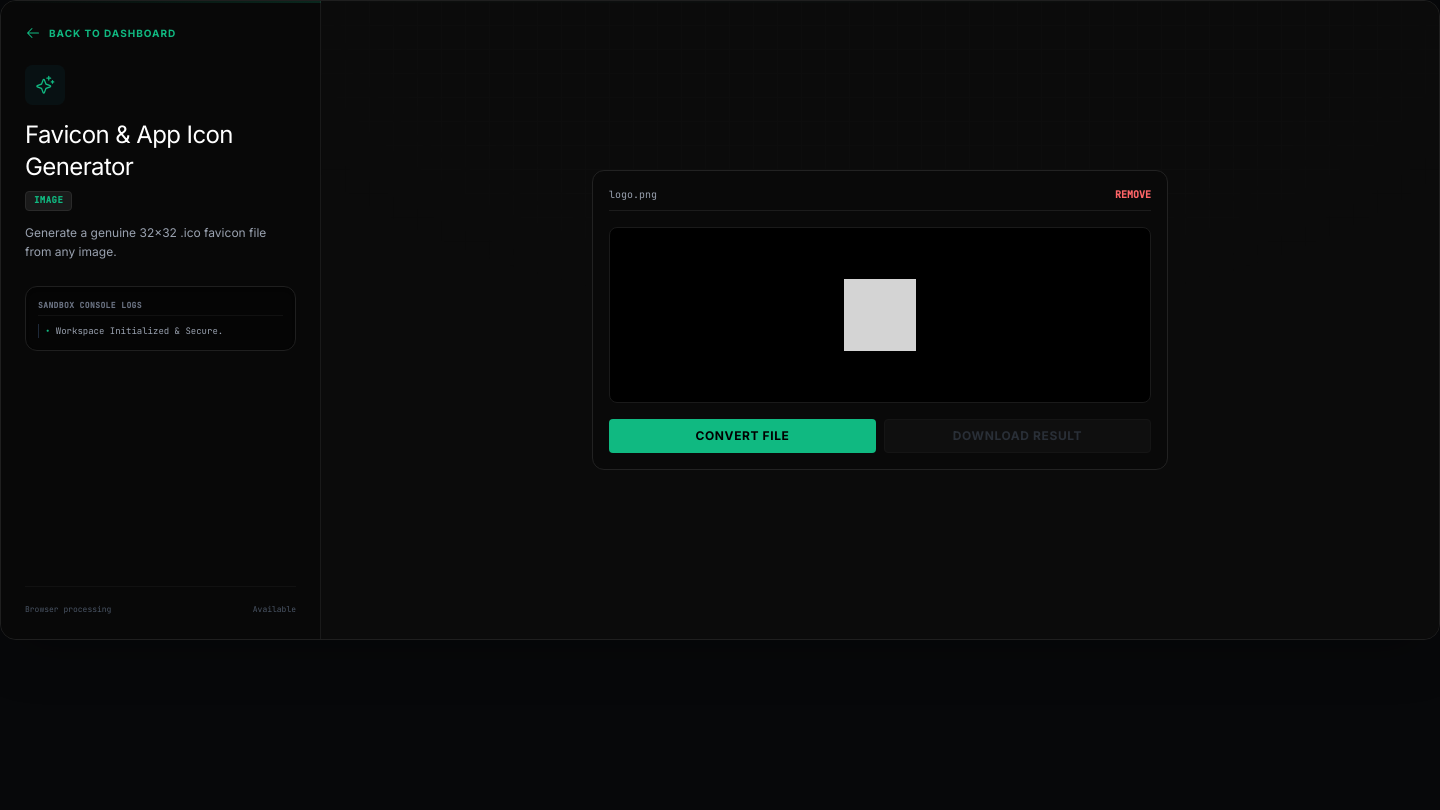
it: favicon-generator handler (real component) › exports a genuine .ico file named favicon.ico
Later steps or results of the test are not shown.
Check: the text "logo.png" is shown, box 609,187 -> 657,202
Click the button "Convert File": (742, 436) 609,419 -> 876,453
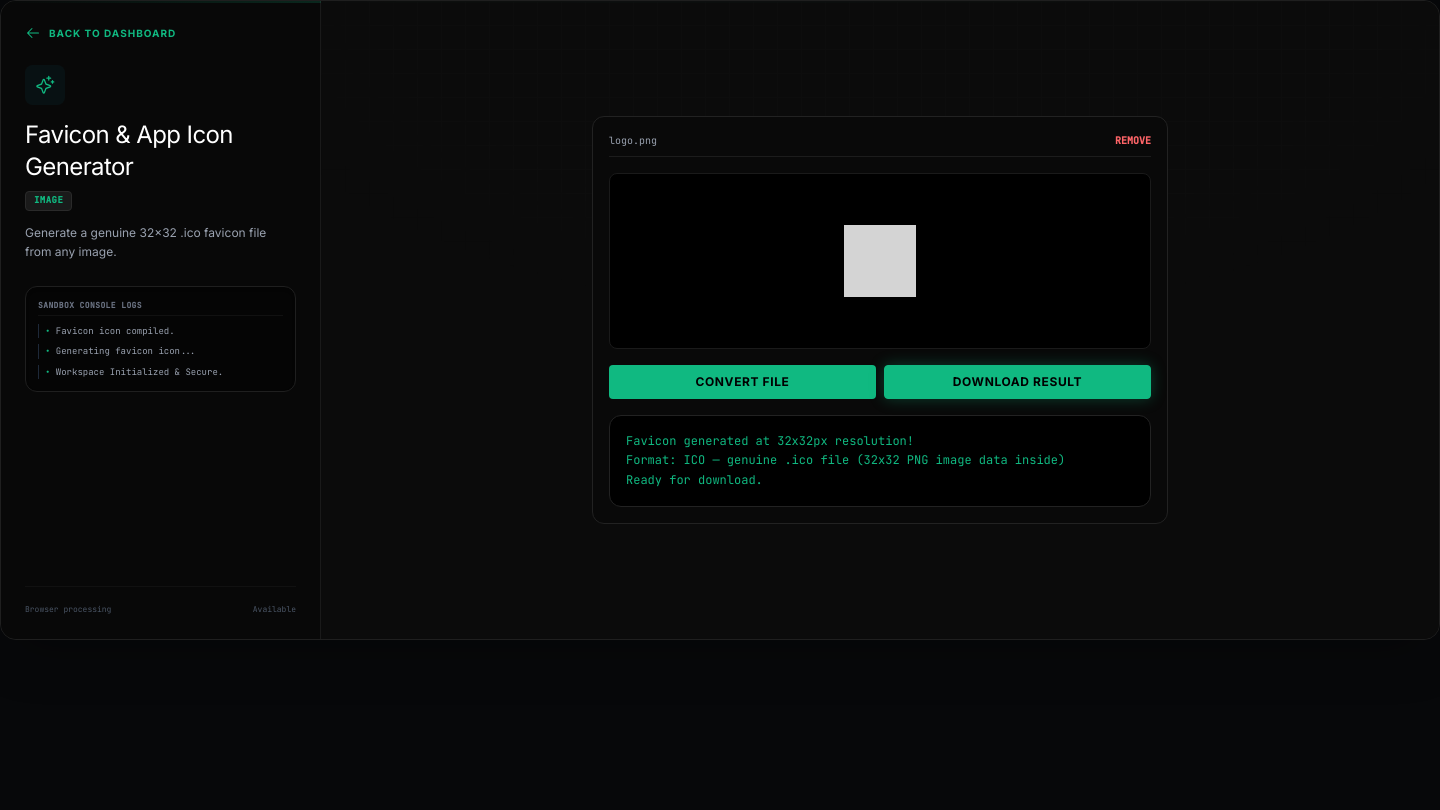
Check: the text "genuine .ico file" is shown, box 626,433 -> 1065,488
Check: the button "Download Result" is enabled, box 884,365 -> 1151,399
